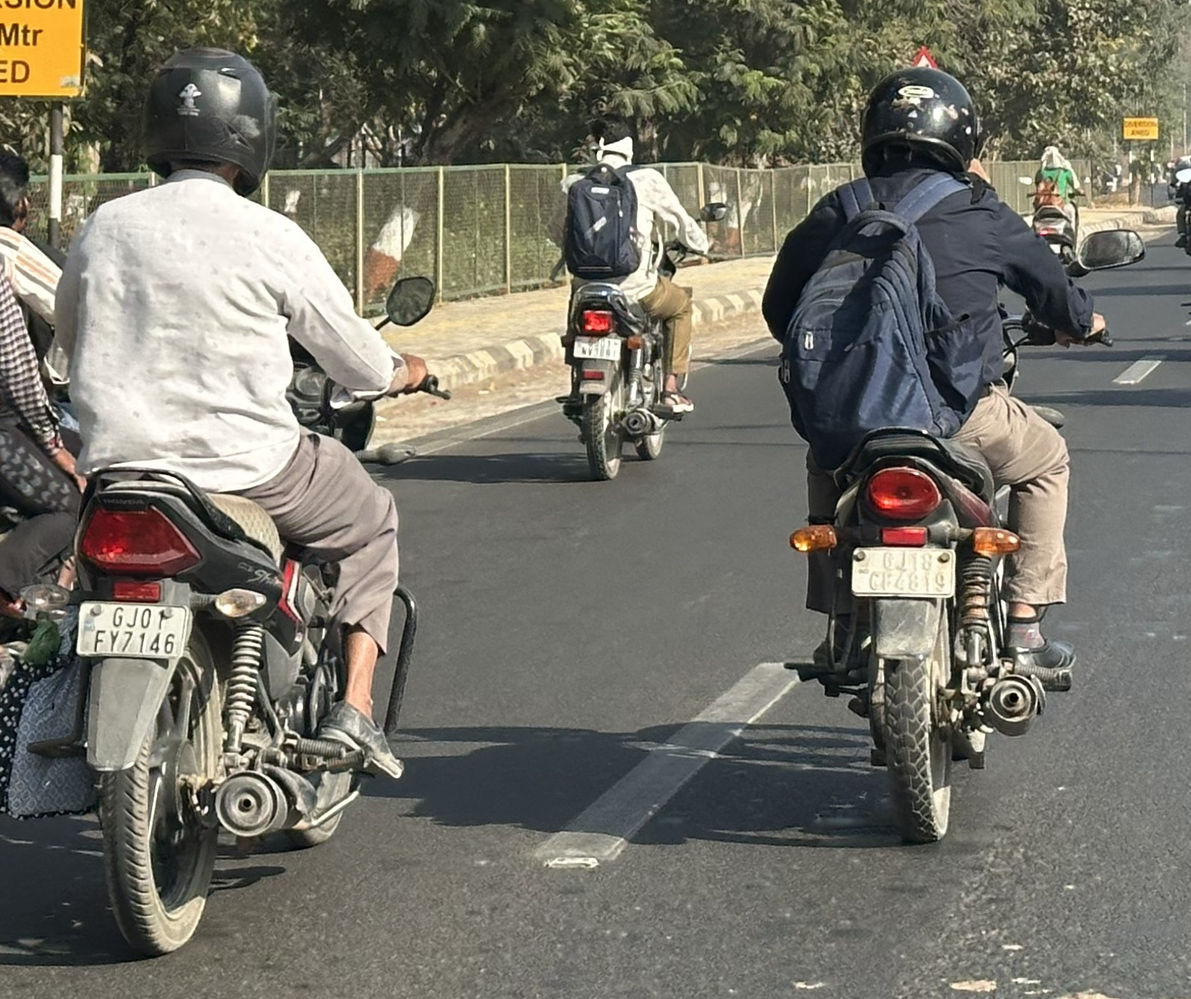BikeWithRider: (19, 39, 444, 960), (758, 62, 1149, 852), (545, 107, 736, 486), (1027, 135, 1091, 278)
Helmet: (131, 42, 280, 200), (854, 62, 980, 183)
NoHelmet: (585, 112, 642, 172)
